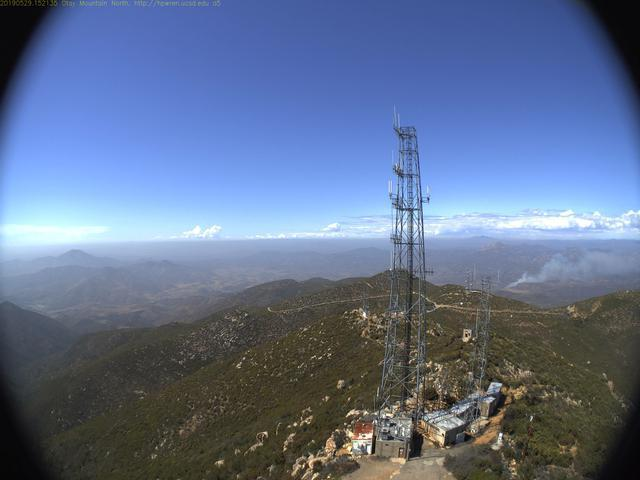smoke: (504, 249, 637, 291)
